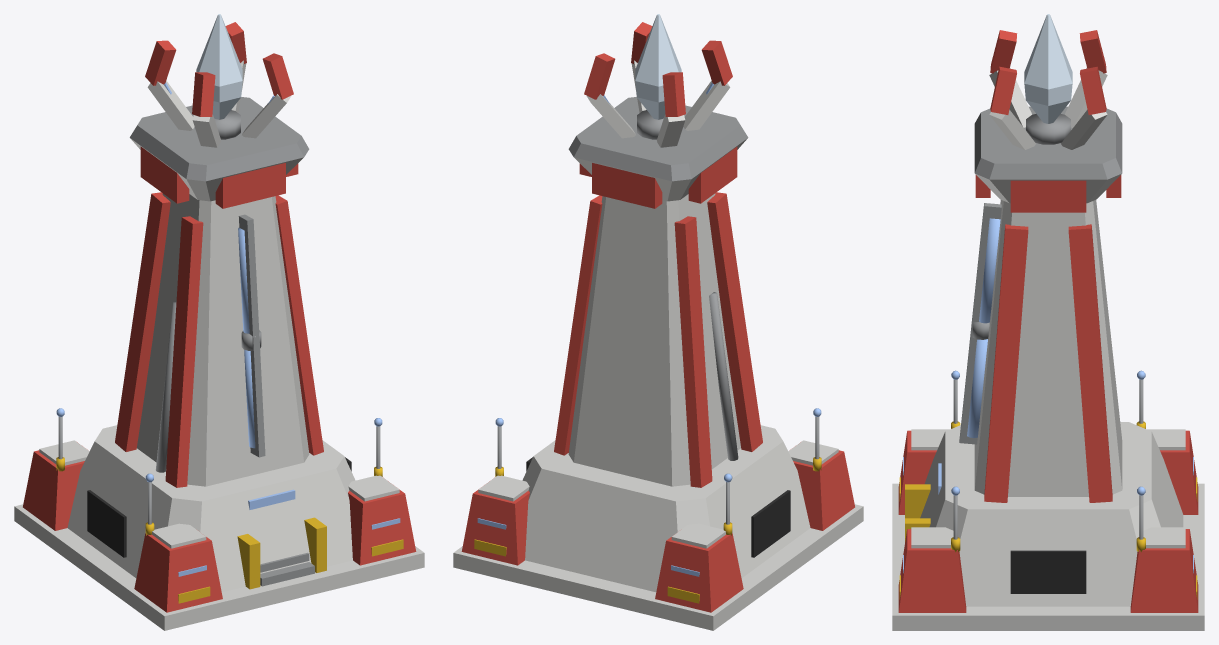
File: prism.glb
The picture shows the model from 3 angles, left to right: view 1: azimuth 30°, elevation 25°; view 2: azimuth 150°, elevation 25°; view 3: azimuth 270°, elevation 25°; orthographic projection. The views are drawn at different scales.
Parts seen in each view (by area): view 1: Prism; view 2: Prism; view 3: Prism.
Part boxes in pixels (x1,y1,x2,y2): Prism: (14,14,424,630); Prism: (453,14,863,630); Prism: (892,14,1204,630).
Bounding box in the file's own units: 6.29 × 12.24 × 6.29.
